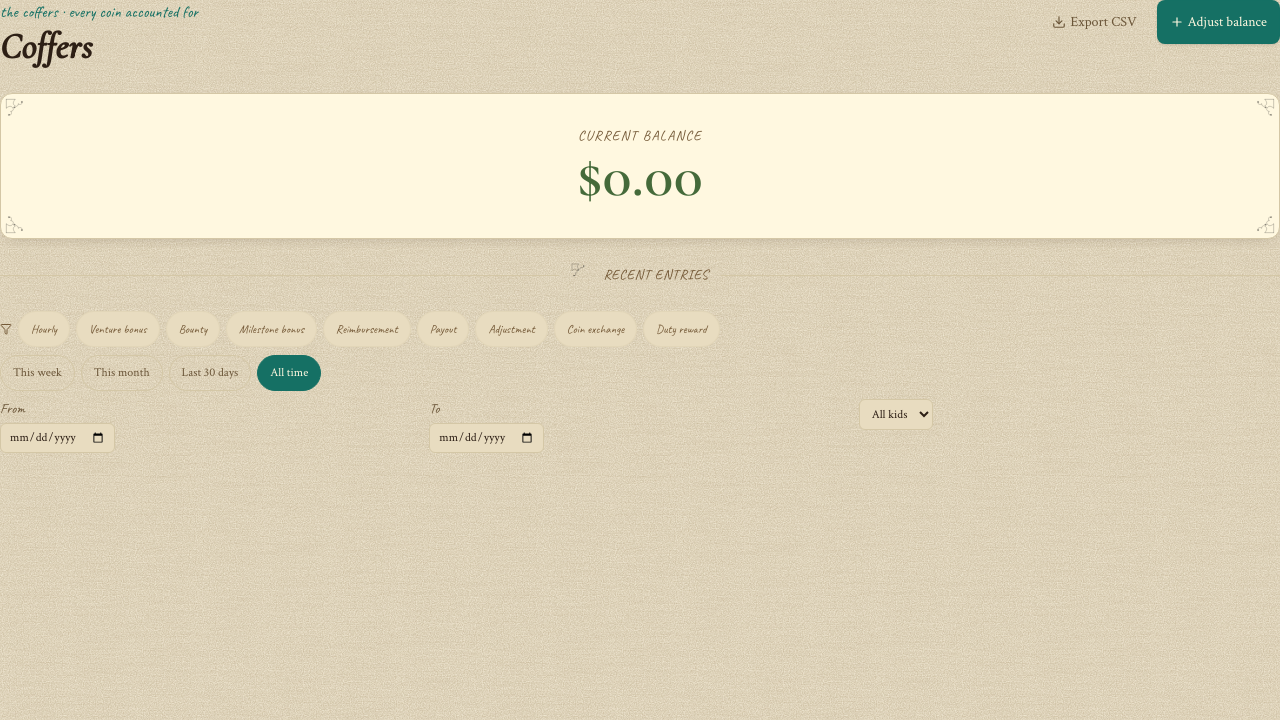
Payments › adjust modal surfaces server error
Step 1. Click the button "Adjust balance" → (1218, 22), box [1157,0,1279,44]
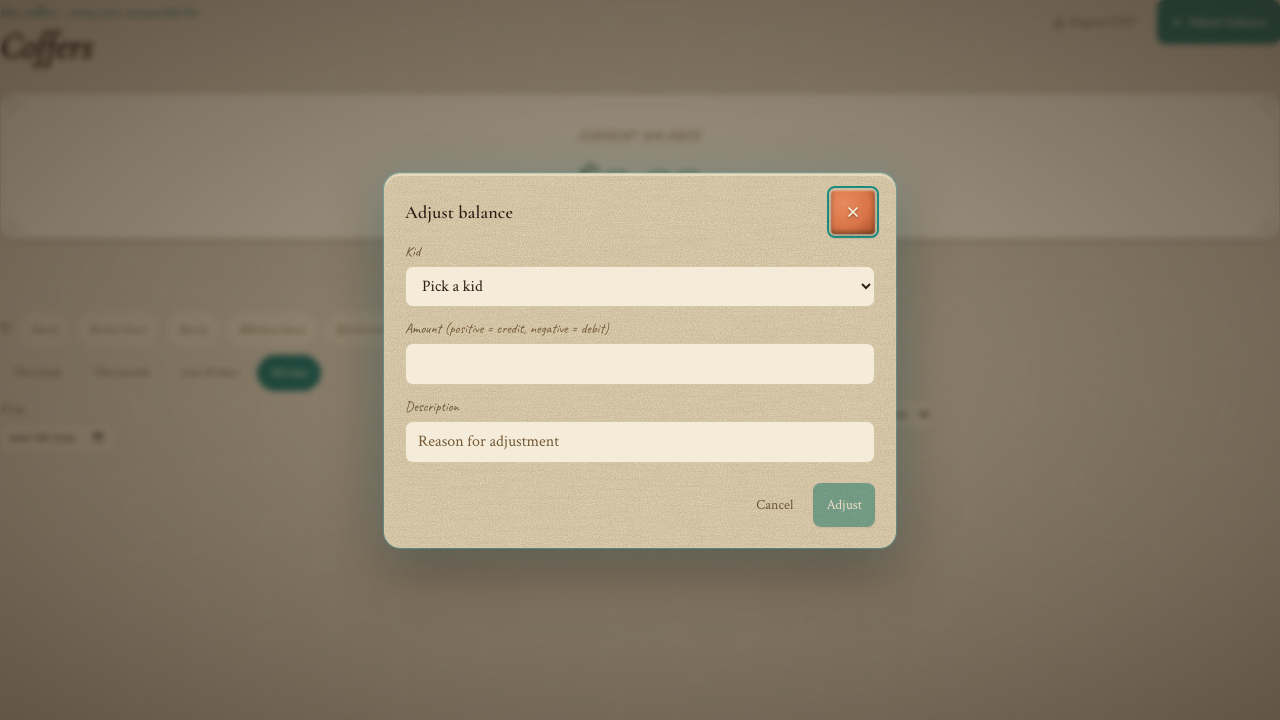
Step 2. Select "Abby" in the dropdown labelled "Kid" → (640, 286), box [405,266,875,306]
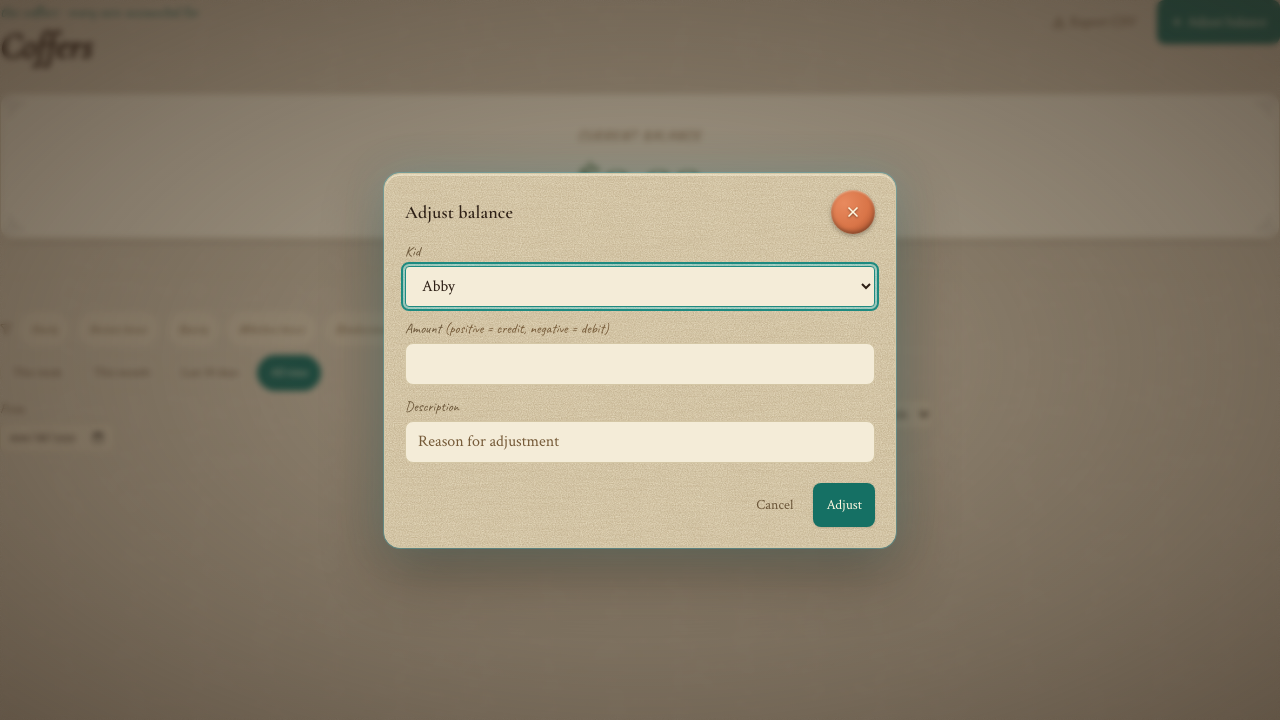
Step 3. Type "1" into the number field → (640, 364), box [405,342,875,384]
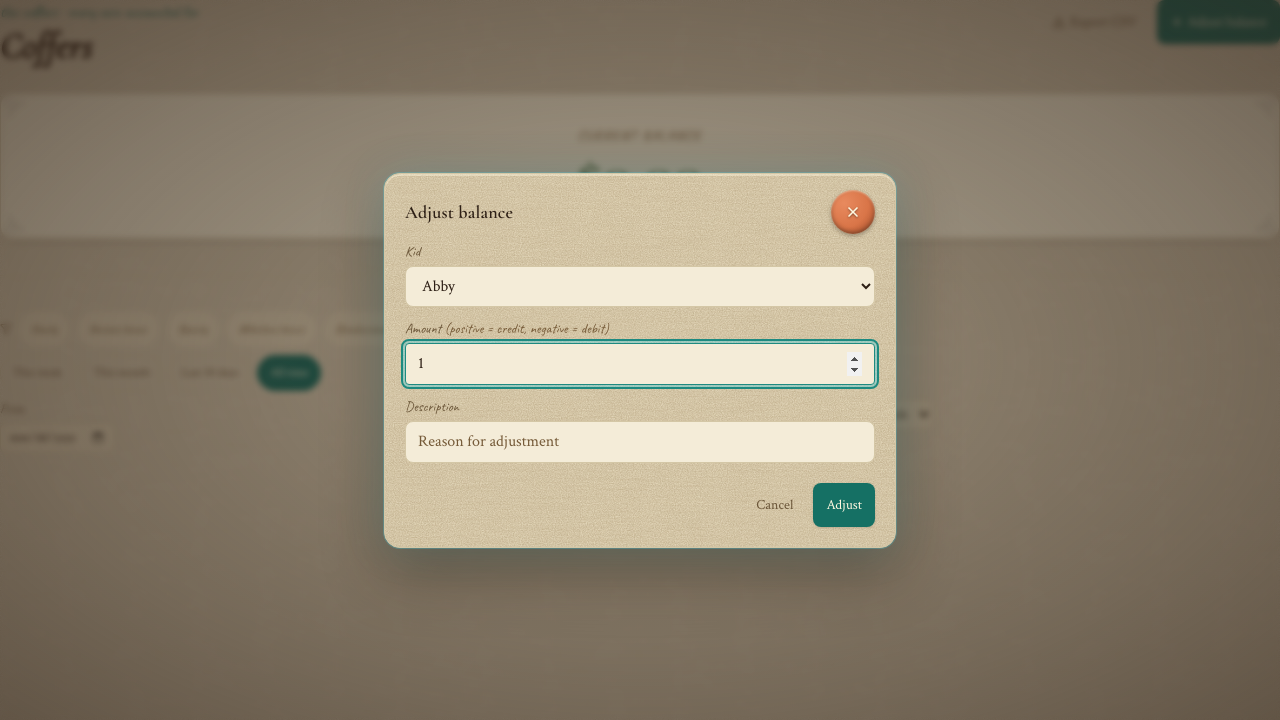
Step 4. Click the button "Adjust" → (844, 504), box [813,482,875,526]
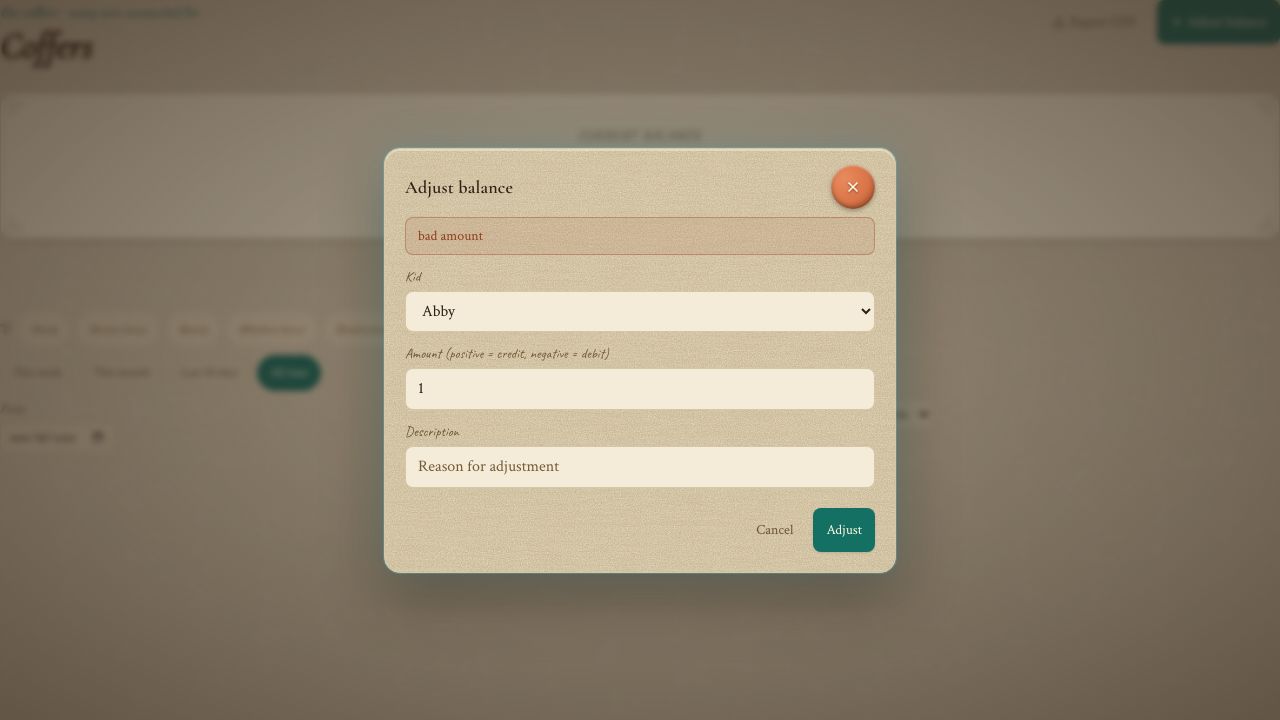
Check: the text "bad amount" is shown, box [418,226,483,244]
